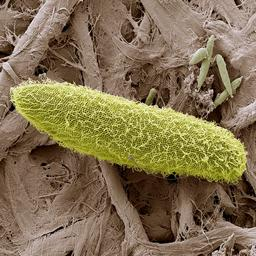Paramecium: (13, 80, 248, 184)
